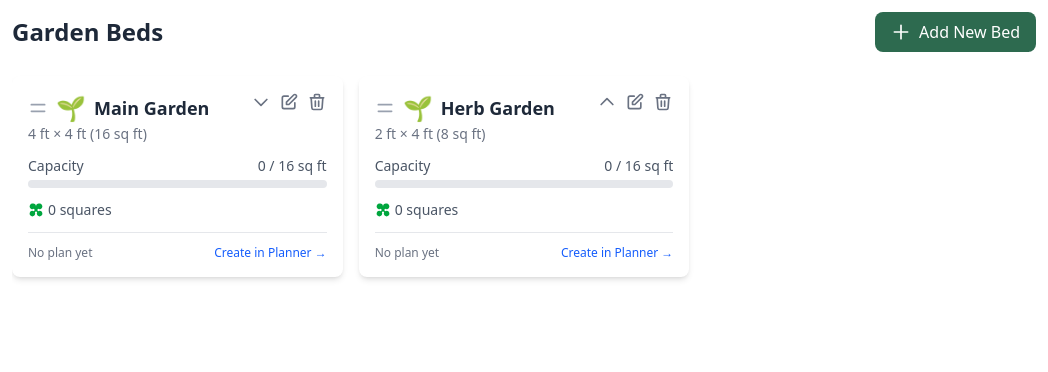
Test: BedManager › deleting beds › shows error when cannot delete last bed with plants
What coordinates should you click on to do the following:
click the button named "Delete Main Garden"
I would click on:
 (317, 102)
Its box is [307,92,327,112].
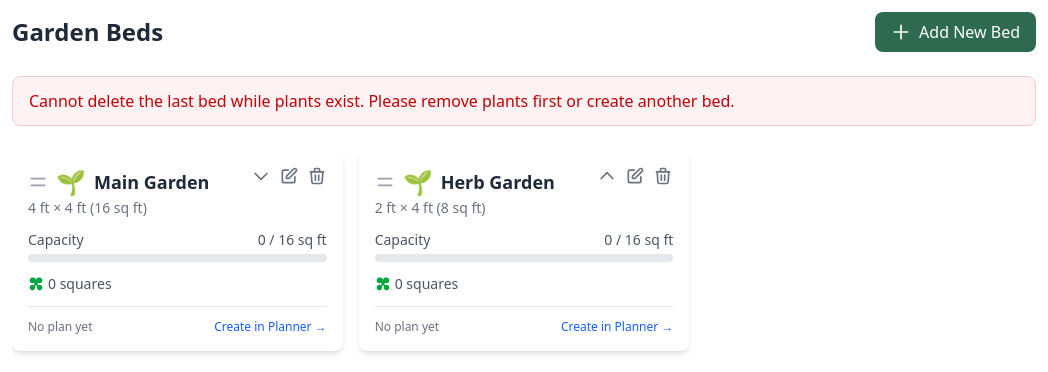
Check: the text "Cannot delete the last bed" is shown, box [29,90,735,112]
